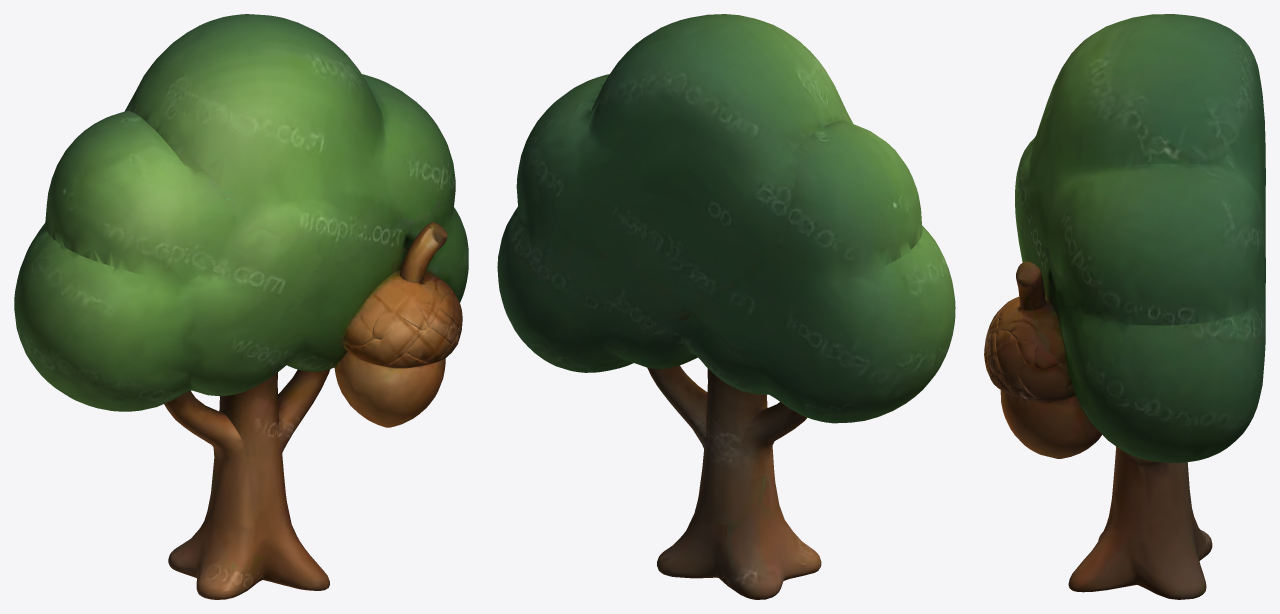
Rendered from acorn_pbr.glb.
3 views of the same model, side by side, from view 1: azimuth 30°, elevation 25°; view 2: azimuth 150°, elevation 25°; view 3: azimuth 270°, elevation 25° (orthographic). The views are drawn at different scales.
Parts seen in each view (by area): view 1: model.001; view 2: model.001; view 3: model.001.
Boxes of the visible parts, x1,y1,x2,y2 form: model.001: [14, 14, 468, 599]; model.001: [497, 14, 955, 599]; model.001: [984, 14, 1265, 599].
Size of the model in its own units: 1.41 by 1.71 by 0.7927.
Materials: 1 (1 with a texture image).
